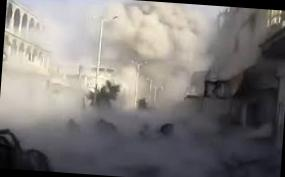Smoke: (0, 62, 284, 177), (77, 0, 266, 101)
